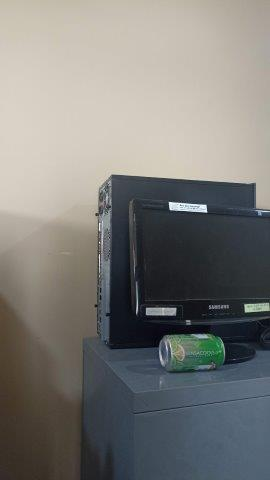kaleng: (160, 333, 227, 374)
